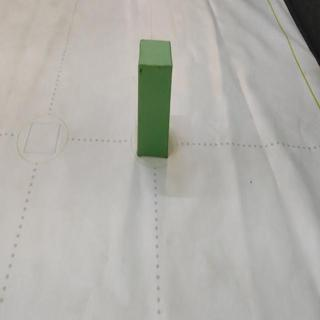greenbox: (139, 37, 174, 158)
